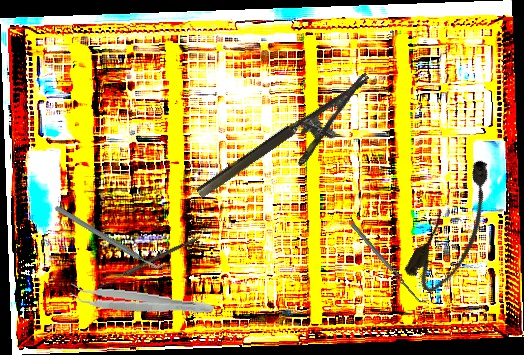Cannula: (400, 154, 512, 299)
Chopper: (53, 174, 167, 301)
Needle Holder: (194, 72, 389, 222)
Spatula Surgical: (350, 219, 428, 308)
Surgical Spoon: (97, 235, 199, 290)
Tissue Forceps: (69, 281, 215, 319)
